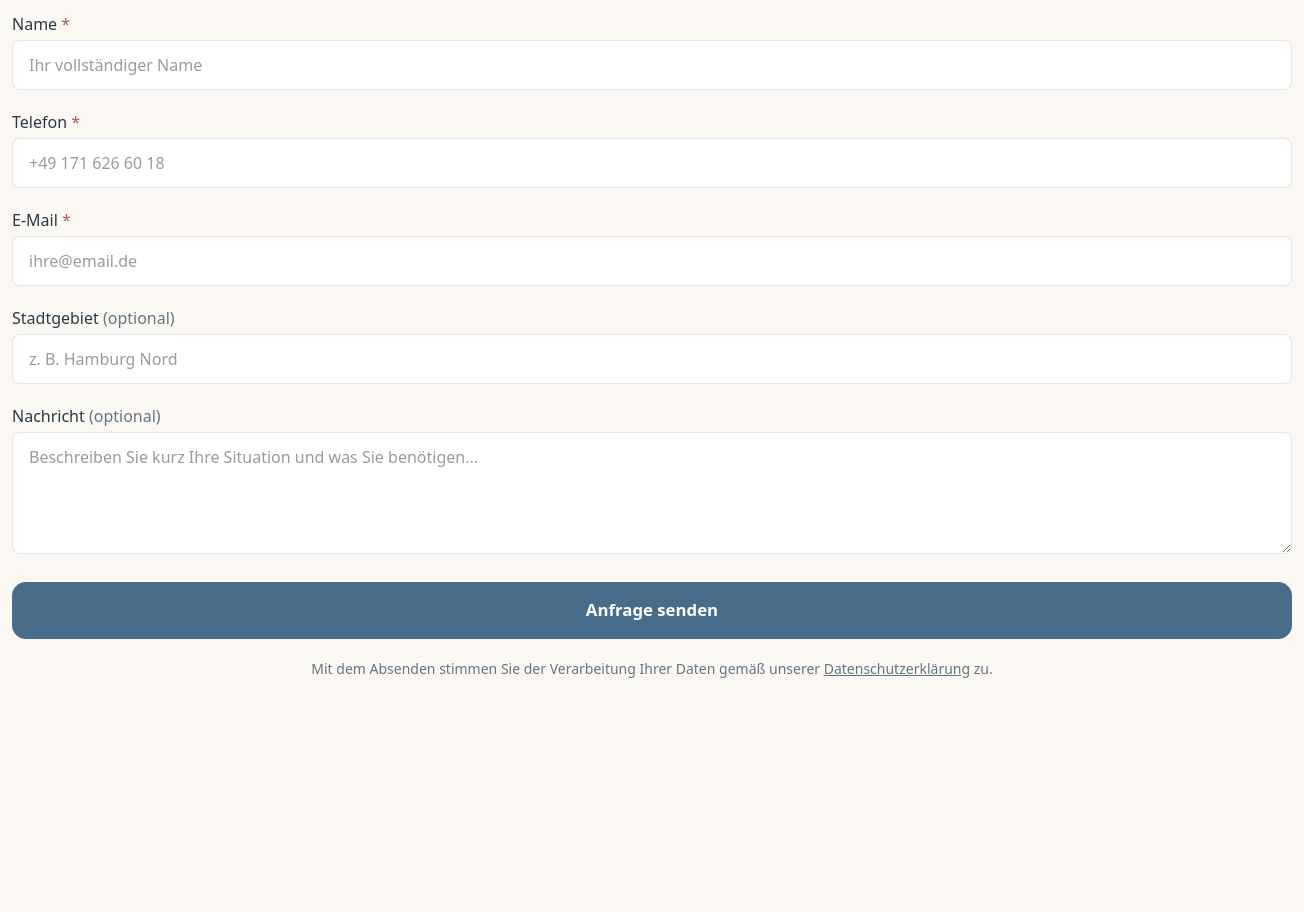
Test: ContactForm › client-side validation › shows name error when submitting empty form
Click the button "Anfrage senden" at (652, 610), box left=12, top=582, right=1292, bottom=639
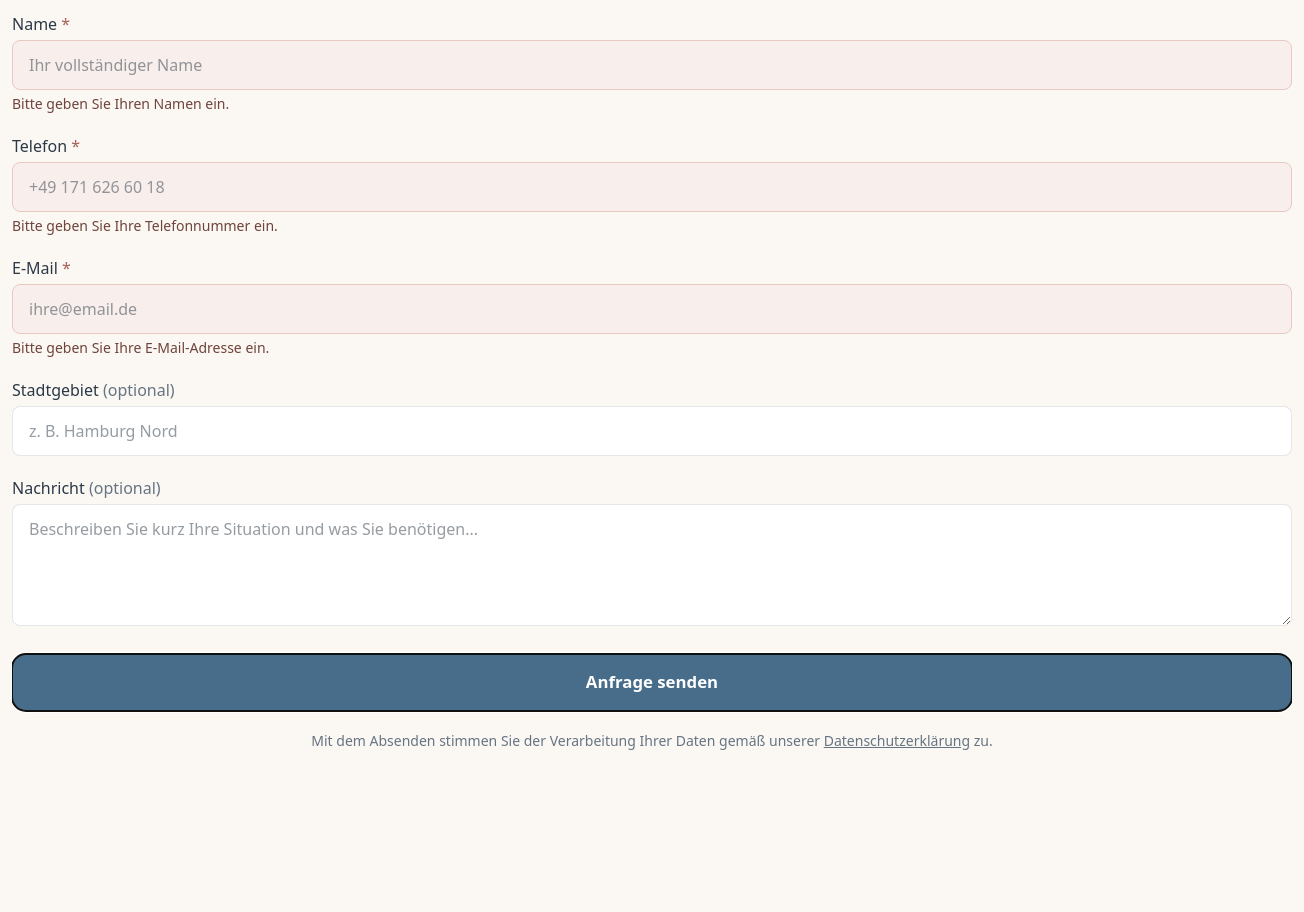
expect the text "Bitte geben Sie Ihren Namen ein." is shown: met, box left=12, top=94, right=229, bottom=113
